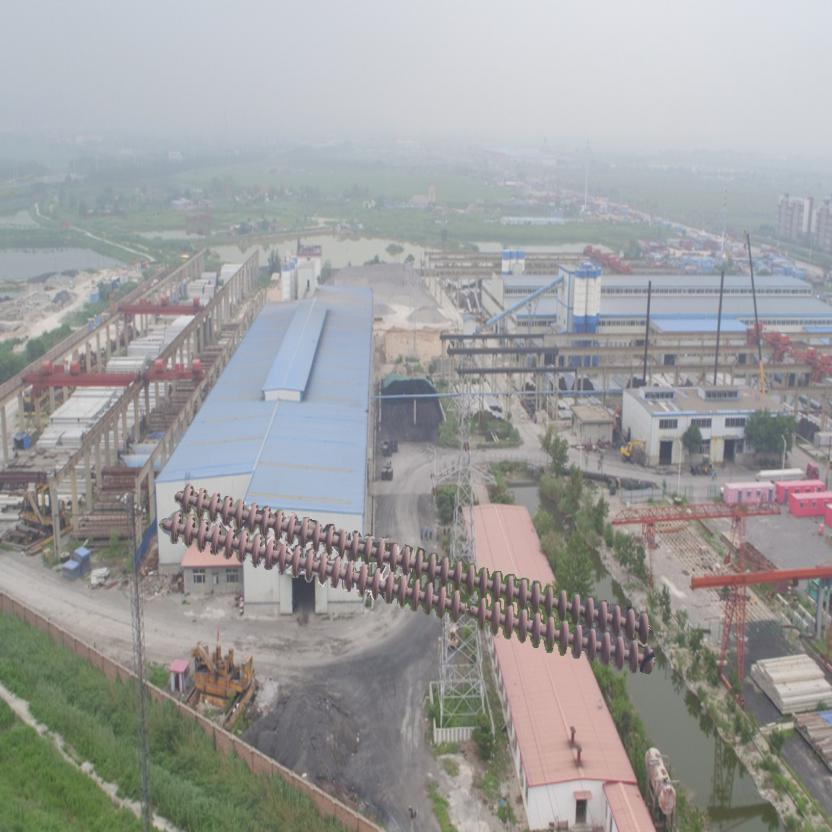defect: (444, 588, 490, 632)
